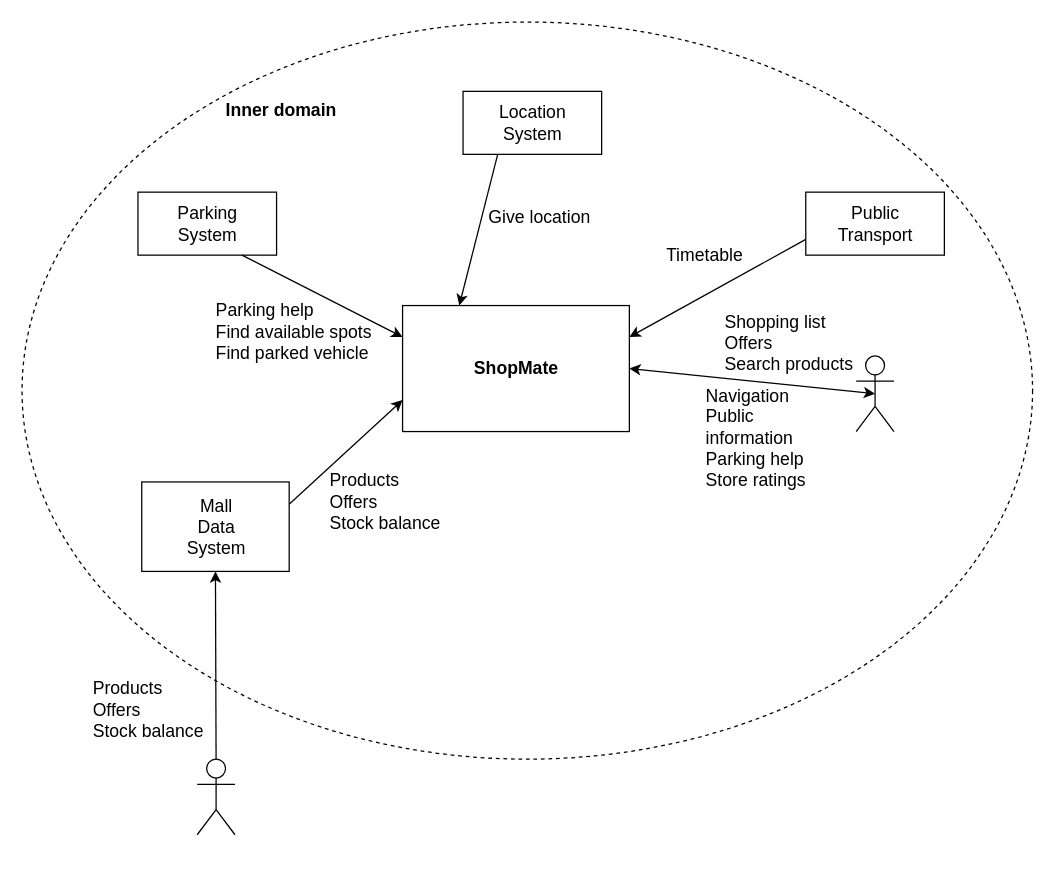
The diagram is 1055 pixels wide and 887 high, and some of its shapes have lost their labels. The box of each missing label's shape, as (x1, y1, x2, y2) in pixels:
Salesperson: (196, 758, 235, 835)
User: (855, 355, 894, 432)
